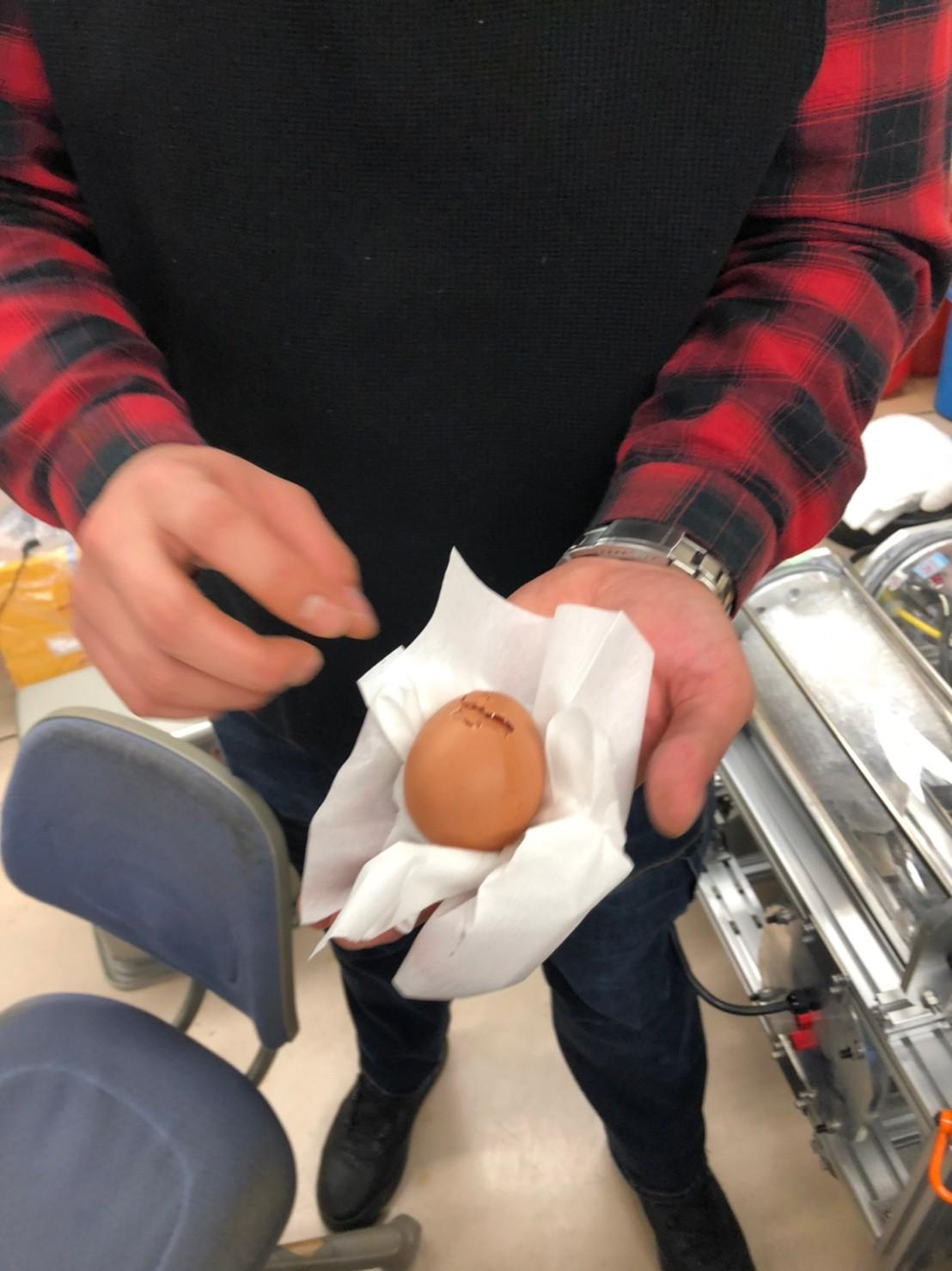egg: (400, 681, 552, 853)
